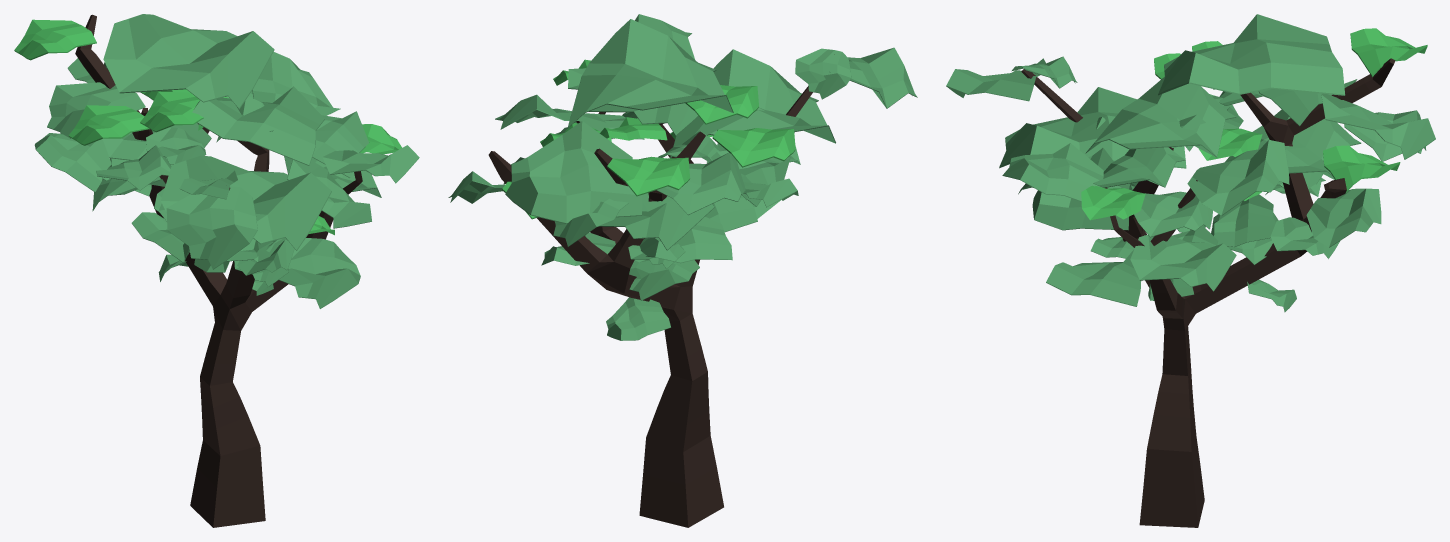
Rendered from Tree 1.fbx.
3 views of the same model, side by side, from view 1: azimuth 30°, elevation 25°; view 2: azimuth 150°, elevation 25°; view 3: azimuth 270°, elevation 25° (orthographic). The views are drawn at different scales.
Visible parts, largest first — view 1: Cube, Plane.015, Plane.011, Plane.026, Plane.010, Plane.002, Plane.006, Plane.025, Plane.007, Plane.005, Plane.018, Plane.016 (+12 smaller); view 2: Cube, Plane.015, Plane.004, Plane.011, Plane.006, Plane.030, Plane.010, Plane.018, Plane.005, Plane.001, Plane.042, Plane.020 (+13 smaller); view 3: Cube, Plane.015, Plane.026, Plane.011, Plane.007, Plane.003, Plane.016, Plane.002, Plane.012, Plane.004, Plane.030, Plane.037 (+15 smaller).
Boxes of the visible parts, box(x1,y1,x2,y2) form: Cube: box(75, 14, 362, 527); Plane.015: box(103, 14, 274, 109); Plane.011: box(161, 155, 331, 250); Plane.026: box(192, 86, 324, 165); Plane.010: box(166, 185, 257, 269); Plane.002: box(279, 238, 360, 308); Plane.006: box(47, 82, 145, 138); Plane.025: box(34, 133, 111, 192); Plane.007: box(252, 52, 340, 115); Plane.005: box(14, 19, 96, 60); Plane.018: box(68, 105, 149, 145); Plane.016: box(322, 145, 419, 183); Cube: box(488, 54, 834, 527); Plane.015: box(567, 19, 733, 128); Plane.004: box(505, 121, 642, 223); Plane.011: box(670, 49, 835, 158); Plane.006: box(656, 152, 746, 215); Plane.030: box(599, 193, 714, 250); Plane.010: box(830, 47, 917, 108); Plane.018: box(712, 128, 795, 167); Plane.005: box(607, 156, 689, 196); Plane.001: box(639, 216, 732, 263); Plane.042: box(795, 48, 851, 99); Plane.020: box(606, 297, 670, 340); Cube: box(1021, 58, 1395, 527); Plane.015: box(1158, 14, 1345, 95); Plane.026: box(1085, 76, 1236, 157); Plane.011: box(999, 87, 1186, 168); Plane.007: box(1187, 140, 1289, 215); Plane.003: box(1130, 234, 1236, 291); Plane.016: box(1002, 143, 1103, 201); Plane.002: box(1046, 249, 1141, 306); Plane.012: box(1306, 188, 1381, 247); Plane.004: box(1321, 93, 1435, 159); Plane.030: box(1225, 109, 1361, 179); Plane.037: box(1032, 148, 1130, 230).
Size of the model in its own units: 554 by 807 by 746.
